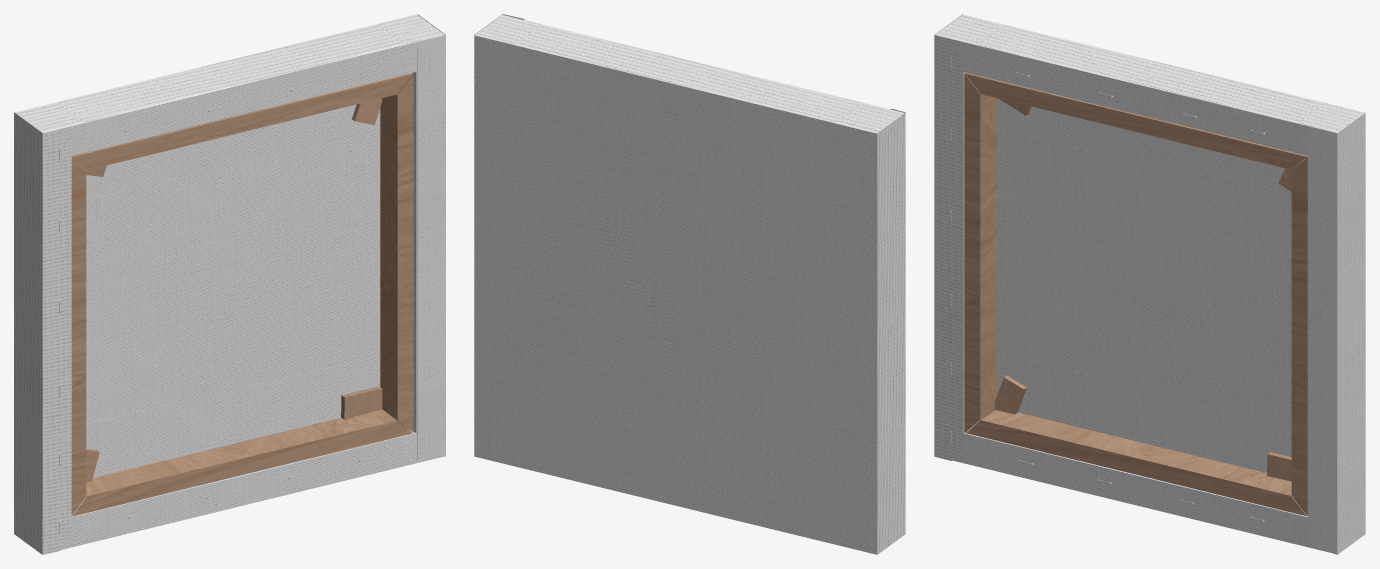
The picture shows the model from 3 angles, left to right: view 1: azimuth 30°, elevation 25°; view 2: azimuth 150°, elevation 25°; view 3: azimuth 330°, elevation 25°; orthographic projection.
Visible parts, largest first — view 1: Plane.001, links, unten, Oben, rechts, editor-page, pad2, pad3; view 2: Plane.001, editor-page; view 3: Plane.001, rechts, unten, Oben, links, editor-page, pad1, pad2.
Boxes of the visible parts, x1,y1,x2,y2 form: Plane.001: (14, 14, 445, 554); links: (380, 73, 413, 432); unten: (72, 409, 412, 516); Oben: (71, 73, 412, 170); rechts: (71, 159, 86, 515); editor-page: (21, 16, 439, 378); pad2: (341, 386, 382, 419); pad3: (352, 98, 382, 124); Plane.001: (474, 14, 905, 554); editor-page: (474, 19, 903, 504); Plane.001: (934, 14, 1365, 554); rechts: (964, 74, 997, 432); unten: (966, 410, 1306, 516); Oben: (965, 72, 1307, 169); links: (1291, 157, 1307, 516); editor-page: (937, 18, 1362, 127); pad1: (991, 375, 1026, 414); pad2: (1267, 452, 1291, 481).
Bounding box in the file's own units: 0.2 × 0.2 × 0.025.
Materials: 26 (6 with a texture image).
